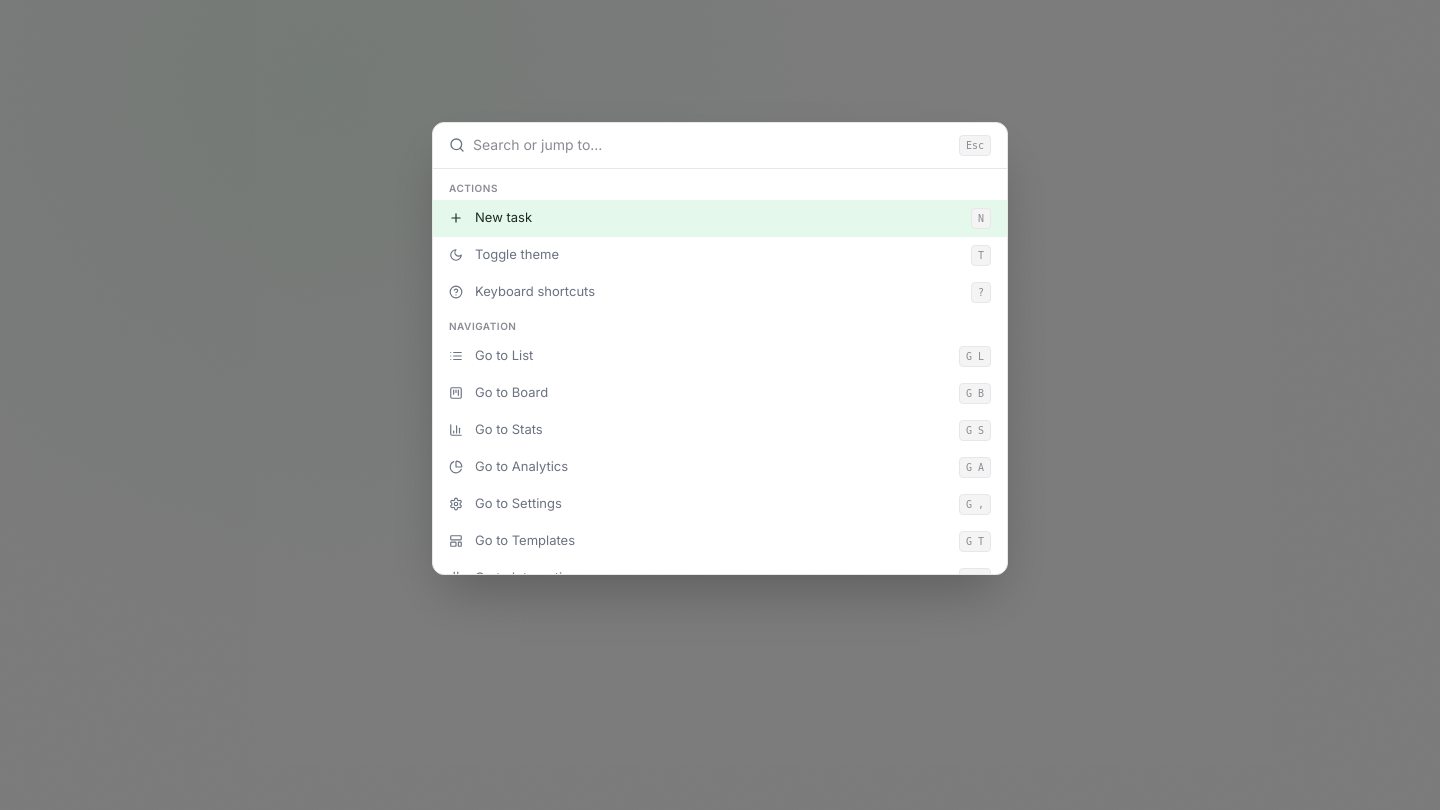
keyboard shortcut modals › CommandPalette filters by query
Type "stats" into the field named "Command palette search".
click(712, 145); type("stats")  # box [473,135,951,155]
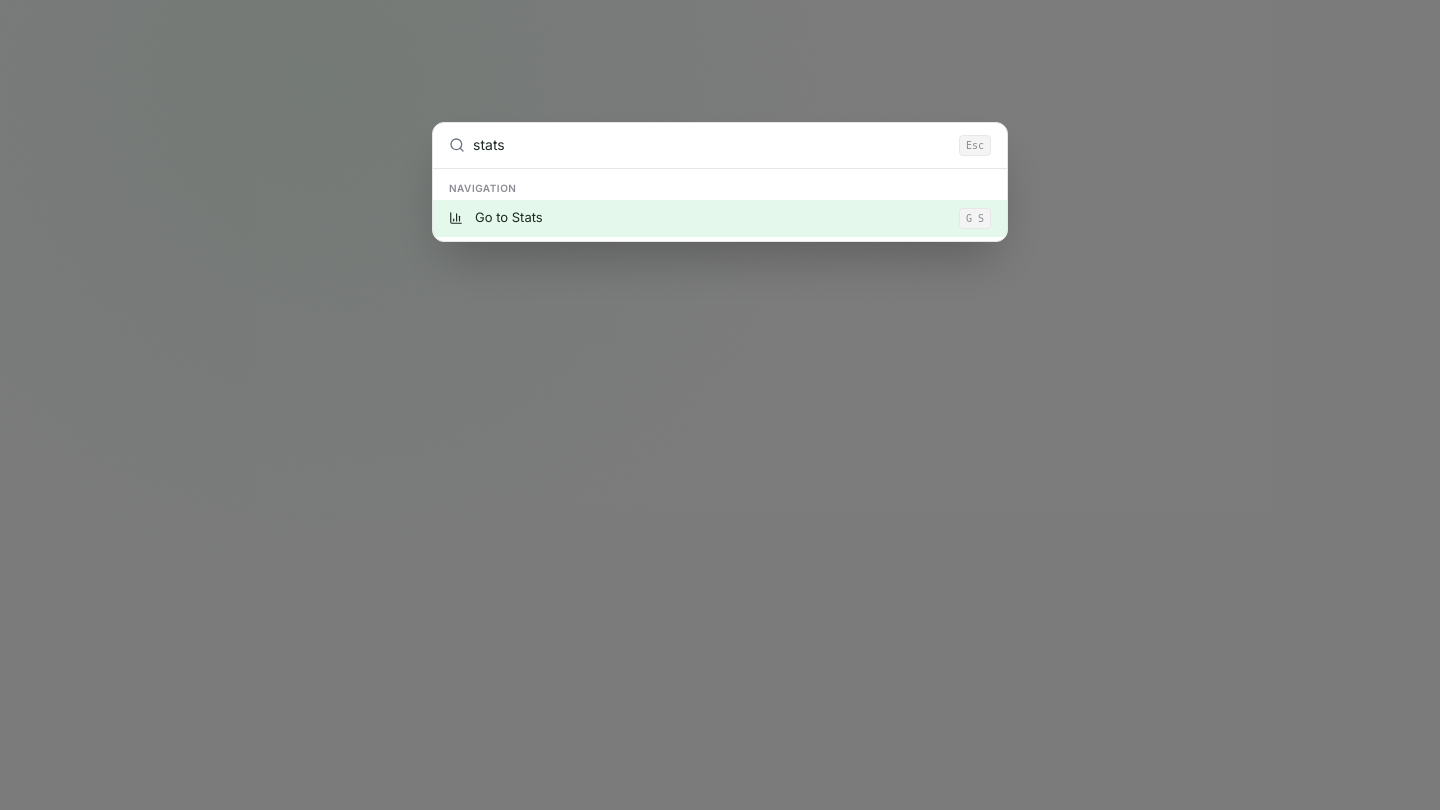
Expected: the text "Go to Stats" is shown, [475,209,543,225]
Expected: the button "Go to Board" is gone
